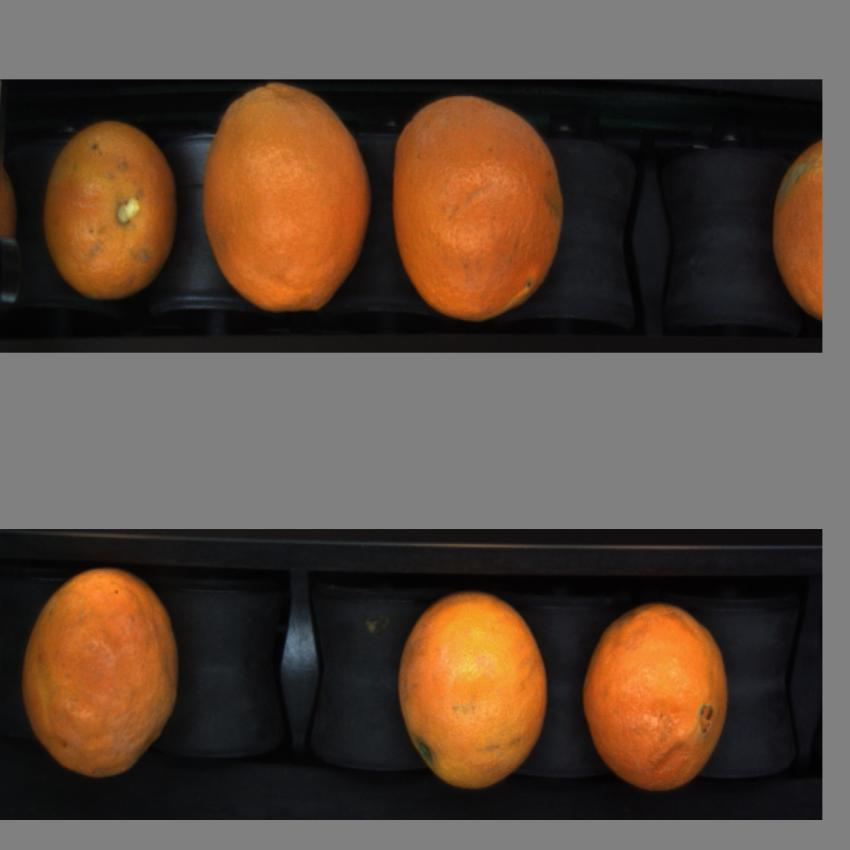Buen estado: (197, 84, 376, 319), (393, 590, 558, 792), (583, 593, 730, 796), (38, 108, 181, 310)
Mal estado: (391, 94, 569, 325), (17, 567, 189, 790), (767, 139, 824, 320)
